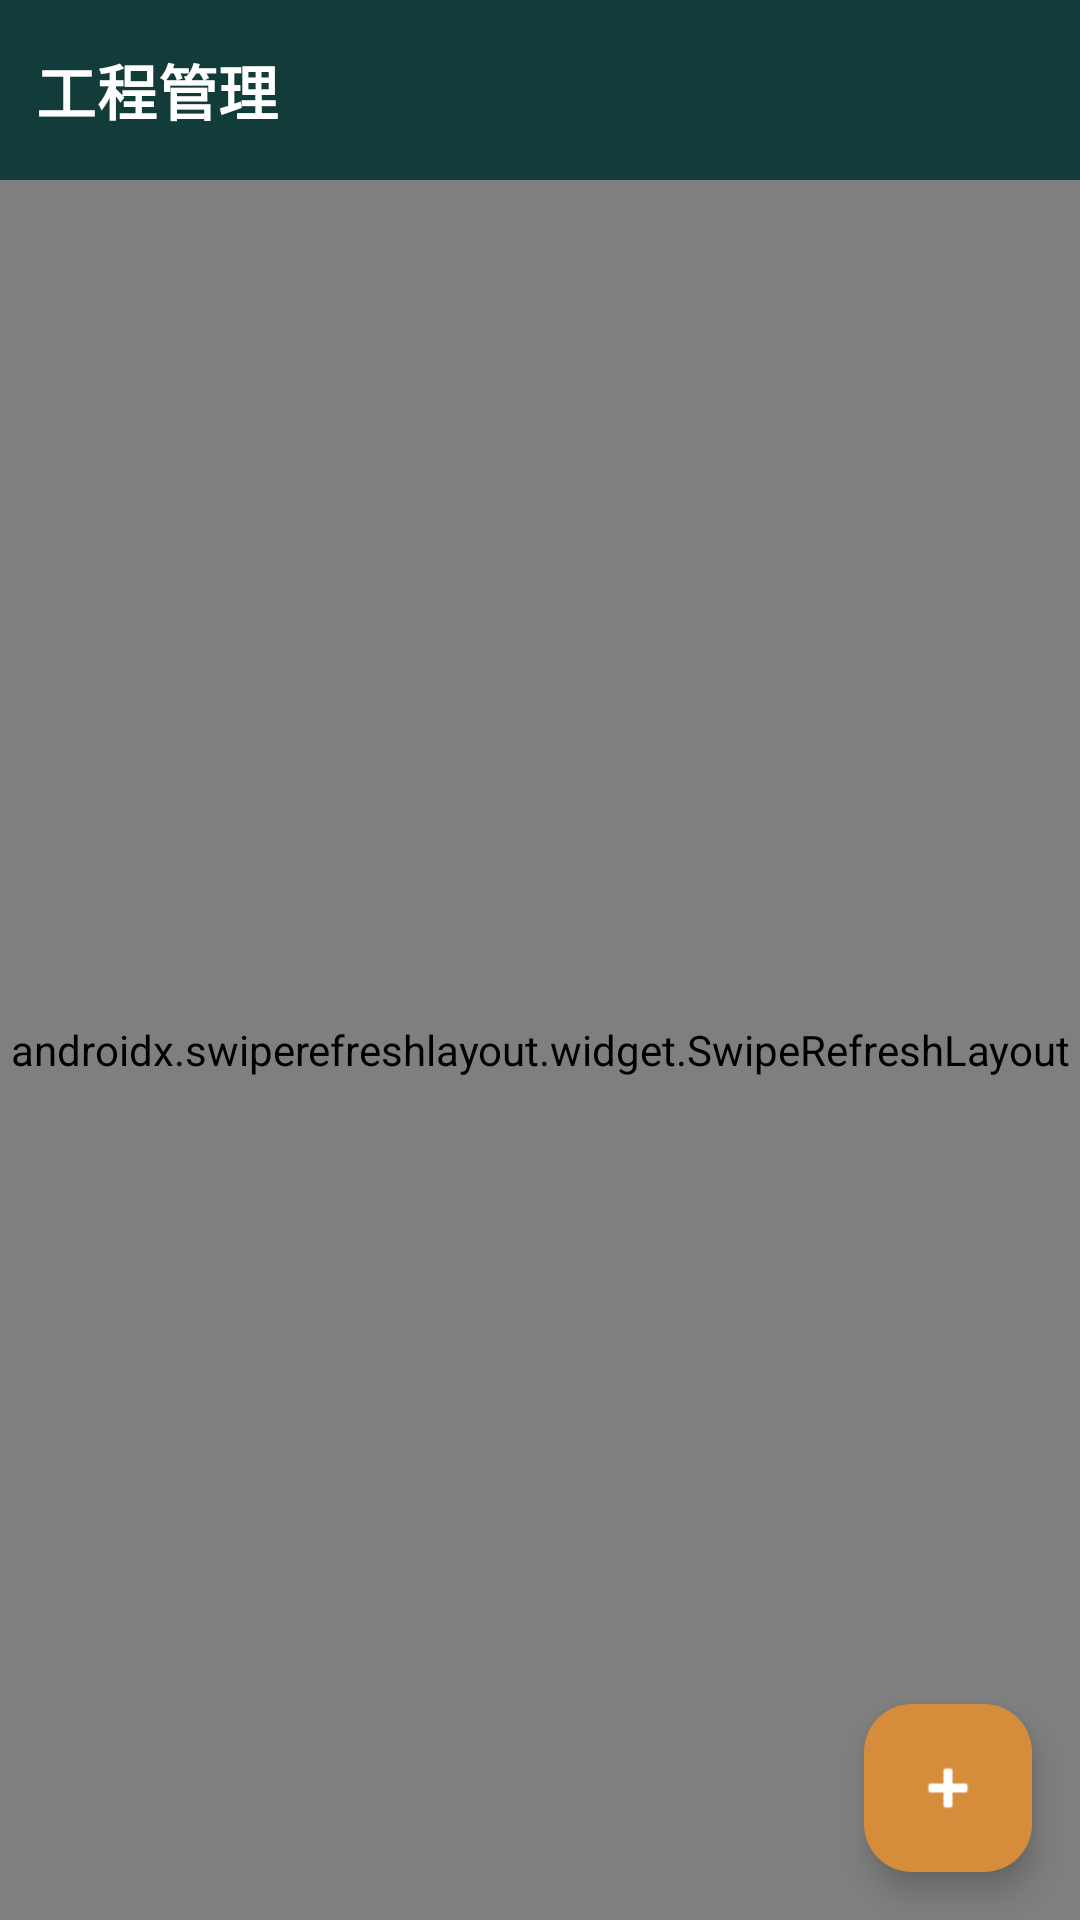

Icons on this 1080×1920 Android screen, each with the point to tap as [x,y]:
新建或导入工程: [948,1788]
